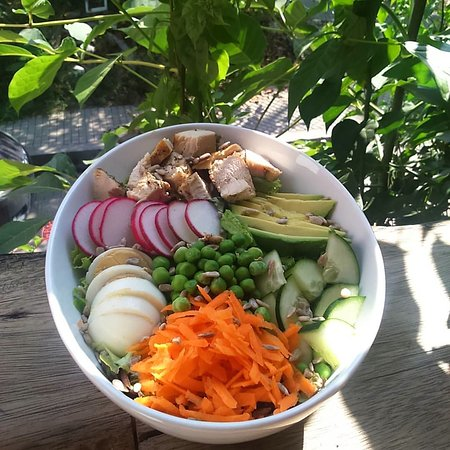boiled peas: (170, 241, 254, 284)
chopped lettuce: (347, 62, 431, 206)
